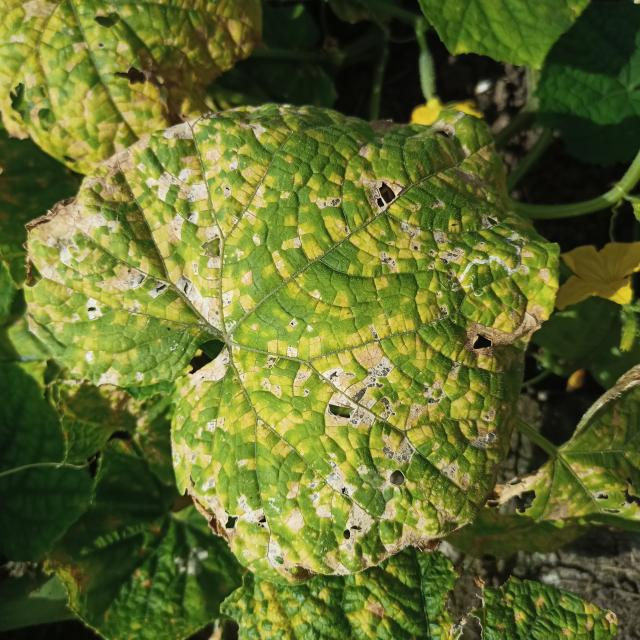disease_cucumber: (41, 104, 546, 560), (1, 0, 281, 169)
